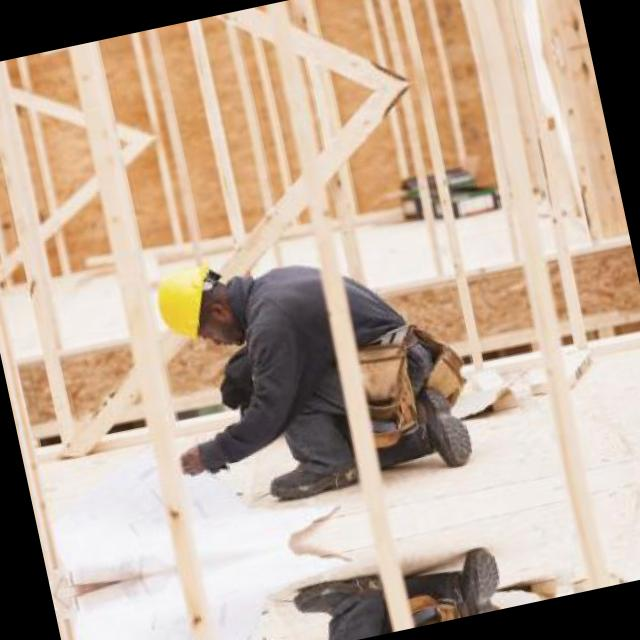helmet: (145, 253, 242, 364)
